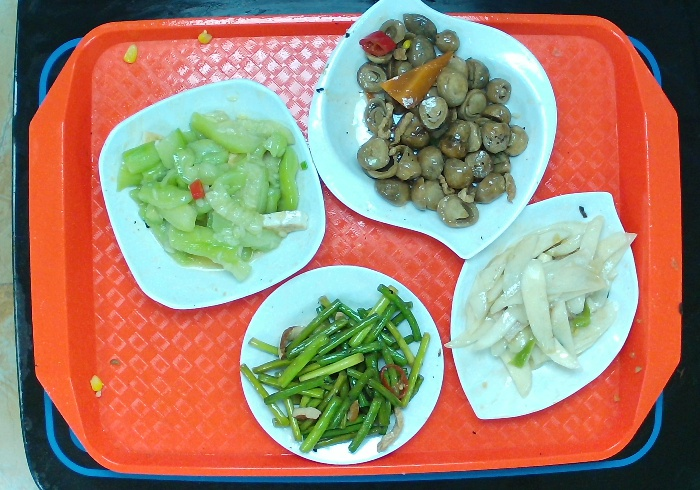RJxy-Da_Du_Pan: (444, 187, 637, 425)
RJxy-Shuang_Jiao_Pan: (305, 1, 561, 254)
RJxy-Si_Fang_Wan: (99, 79, 326, 313)
RJxy-Xiao_Yuan_Die: (240, 262, 445, 467)
